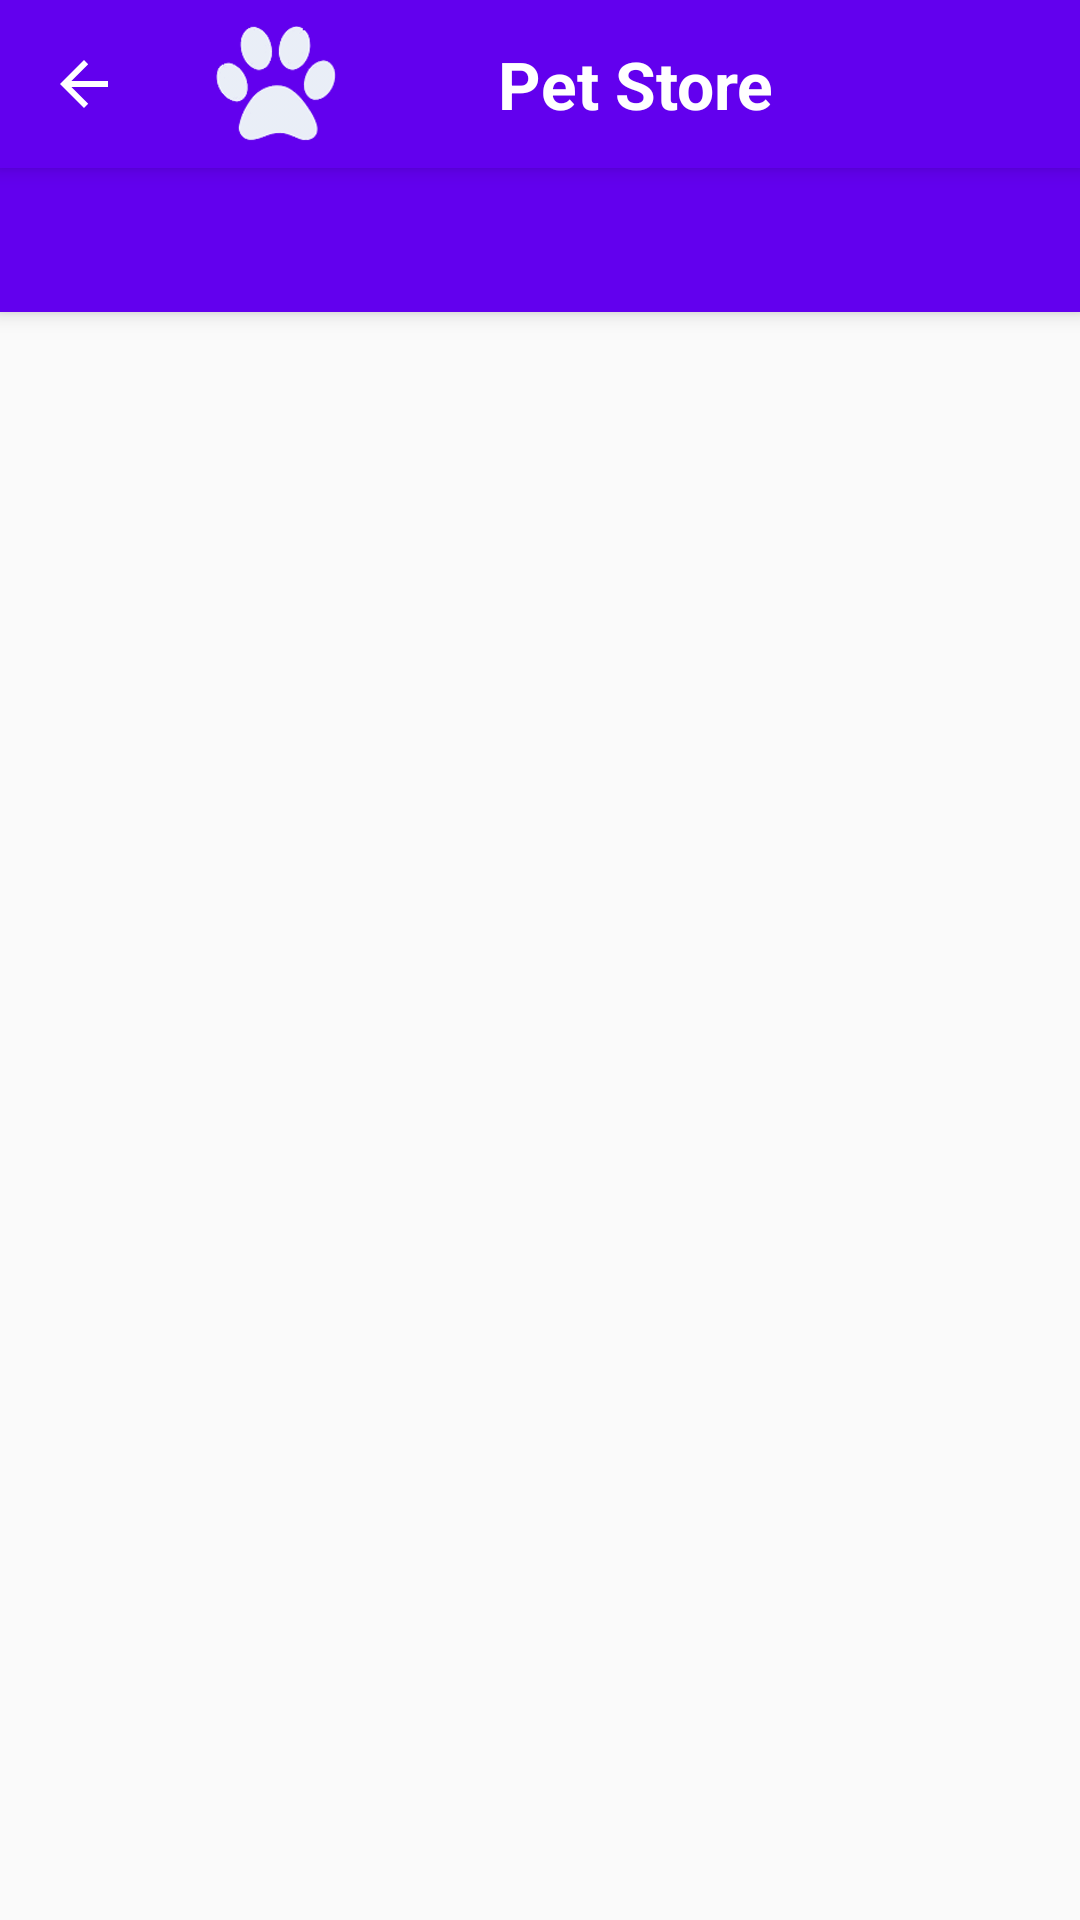

Icons on this 1080×1920 Android screen, each with its box as bbox=(x1, y1, x2, y2):
huellapet: bbox=(216, 26, 336, 140)
